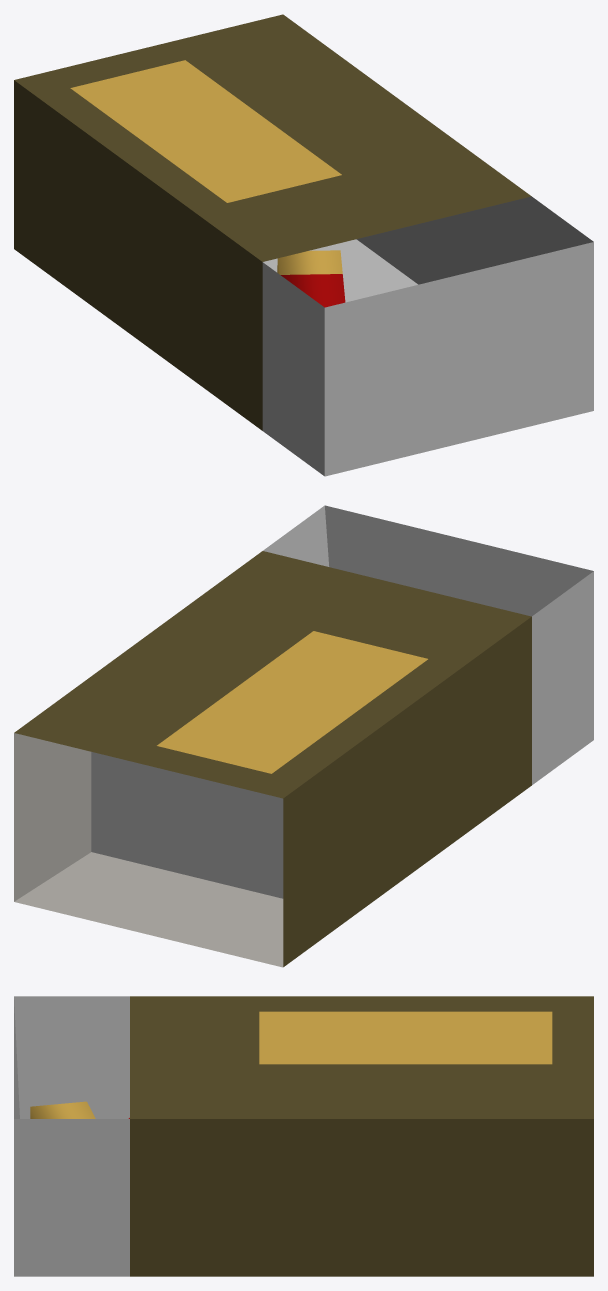
File: AmmoSmall_12Gauge.FBX
3 views of the same model, one above another, from view 1: azimuth 30°, elevation 25°; view 2: azimuth 150°, elevation 25°; view 3: azimuth 270°, elevation 25° (orthographic). The views are drawn at different scales.
Parts seen in each view (by area): view 1: AmmoSmall_12Gauge; view 2: AmmoSmall_12Gauge; view 3: AmmoSmall_12Gauge.
Part boxes in pixels (x1,y1,x2,y2): AmmoSmall_12Gauge: (14, 14, 593, 476); AmmoSmall_12Gauge: (14, 505, 593, 967); AmmoSmall_12Gauge: (14, 996, 593, 1276).
Size of the model in its own units: 10 by 20 by 6.
